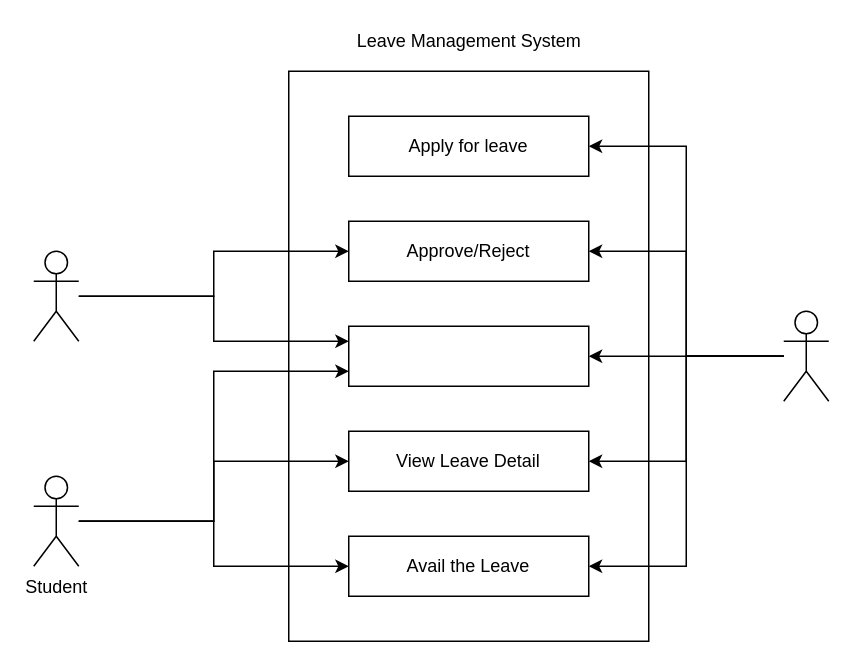
Some shapes in this 861 by 668 pixel diagram are drawn without their labels. The centre of each missing label's shape, as x and y in pixels:
Faculty: the point at 805,355
HOD: the point at 55,295
Login/Logout: the point at 468,355
